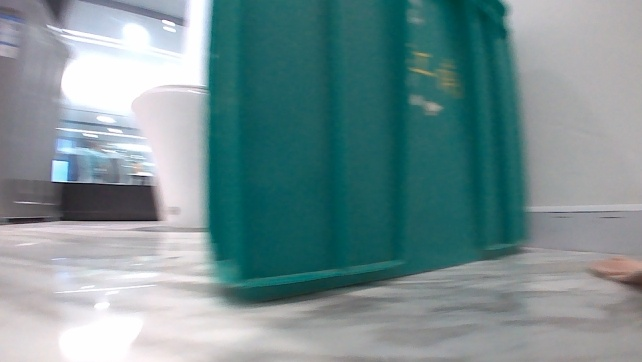toilet: (129, 80, 213, 230)
